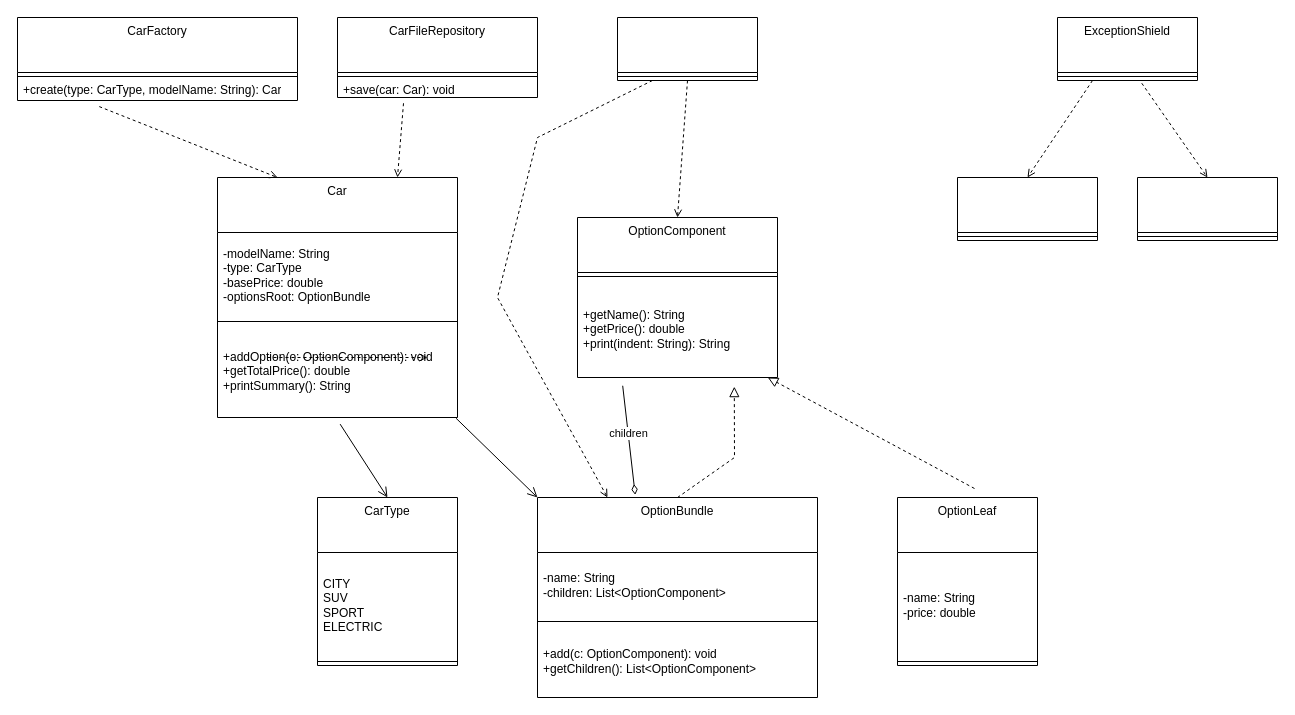
Some shapes in this 1295 by 715 pixel diagram are drawn without their labels. Here are the shapes that lost their labels. From the top down, the centre of each, then its label:
[687,48]: OptionIterator
[1027,208]: AppException
[1207,208]: AppLogger
